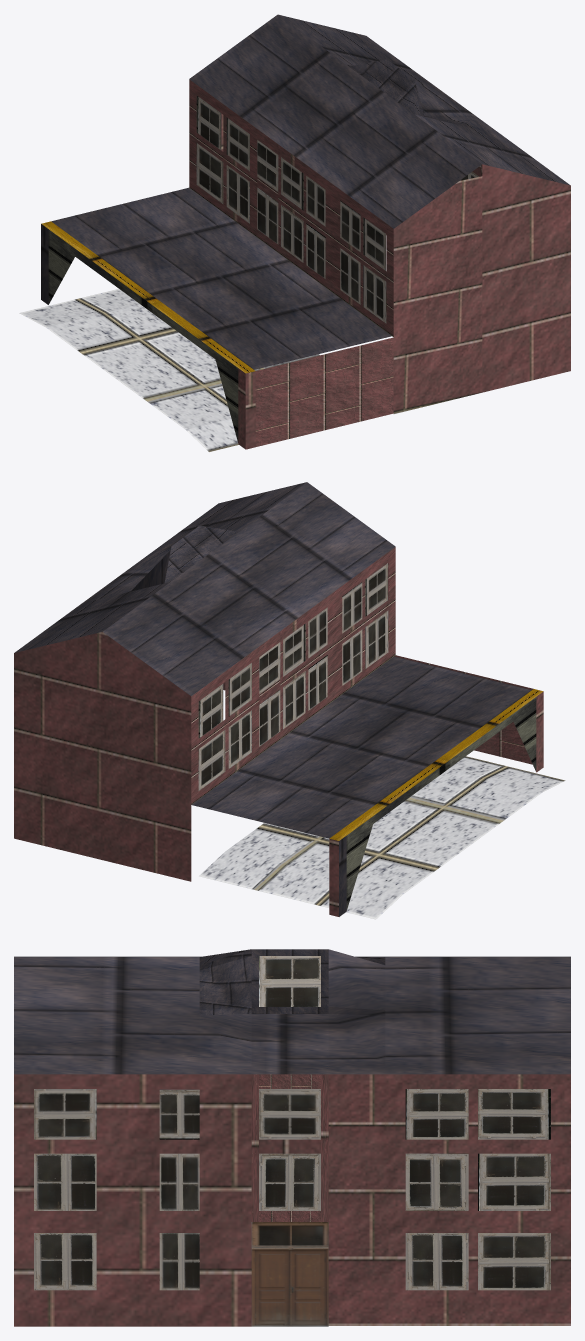
File: stationhouse_large.obj
3 views of the same model, one above another, from view 1: azimuth 30°, elevation 25°; view 2: azimuth 150°, elevation 25°; view 3: azimuth 270°, elevation 25° (orthographic). The views are drawn at different scales.
Visible parts, largest first — view 1: Cube; view 2: Cube; view 3: Cube.
Boxes of the visible parts, x1,y1,x2,y2 form: Cube: (19,14,570,451); Cube: (14,482,565,919); Cube: (14,949,570,1326).
Size of the model in its own units: 4.06 by 2.63 by 4.
